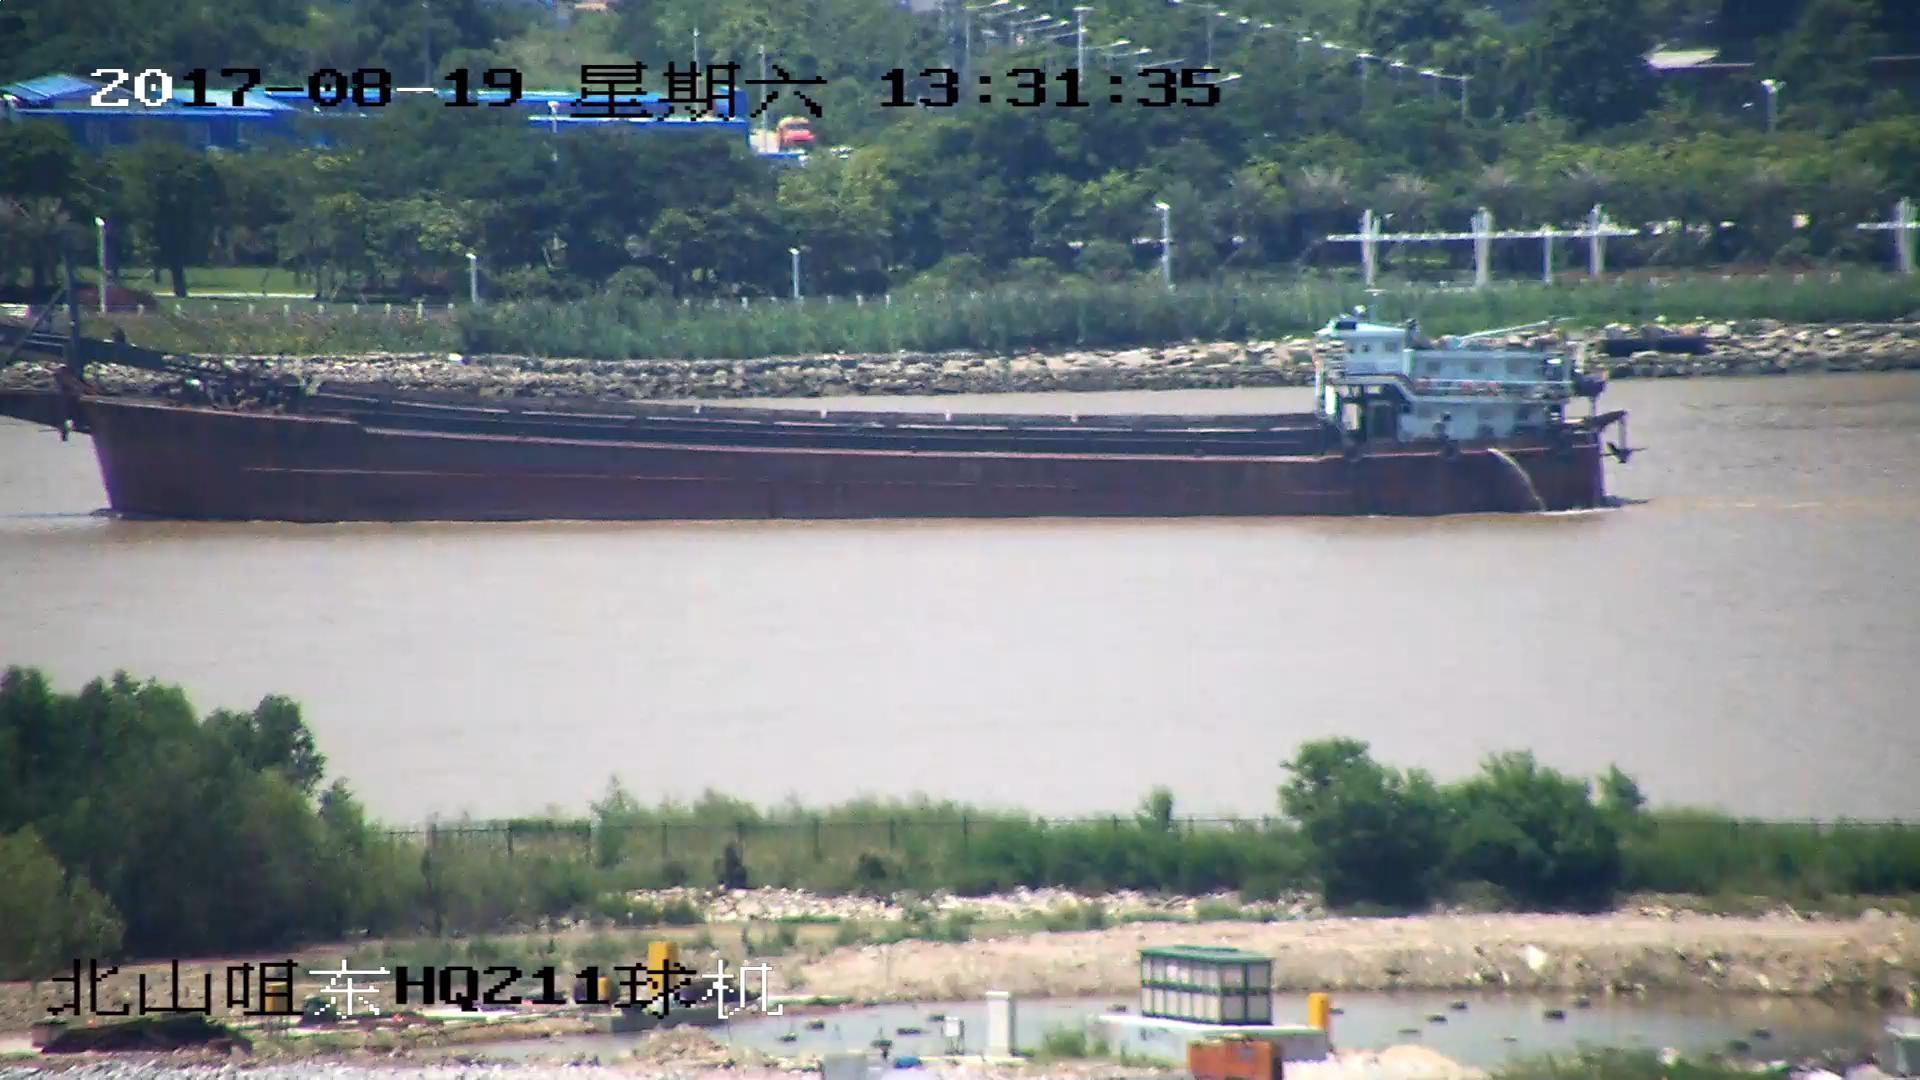Ship: (3, 277, 1633, 524)
